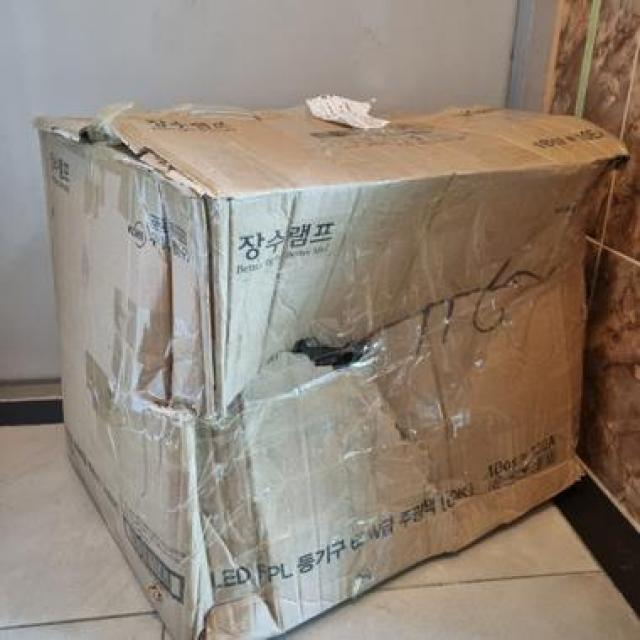hole: (286, 323, 369, 376)
